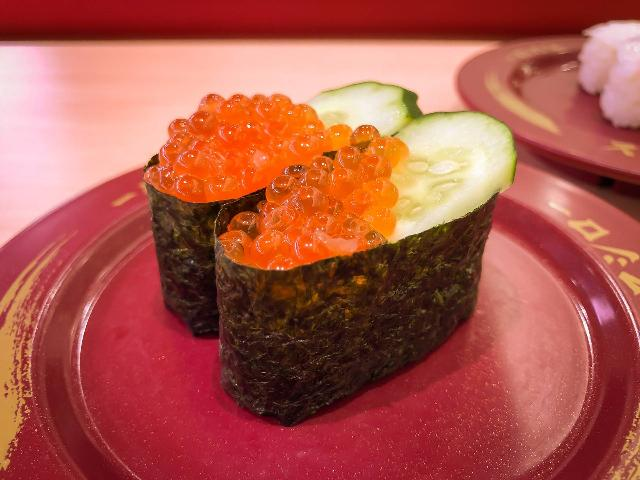janred: (0, 131, 640, 480), (420, 34, 640, 161)
